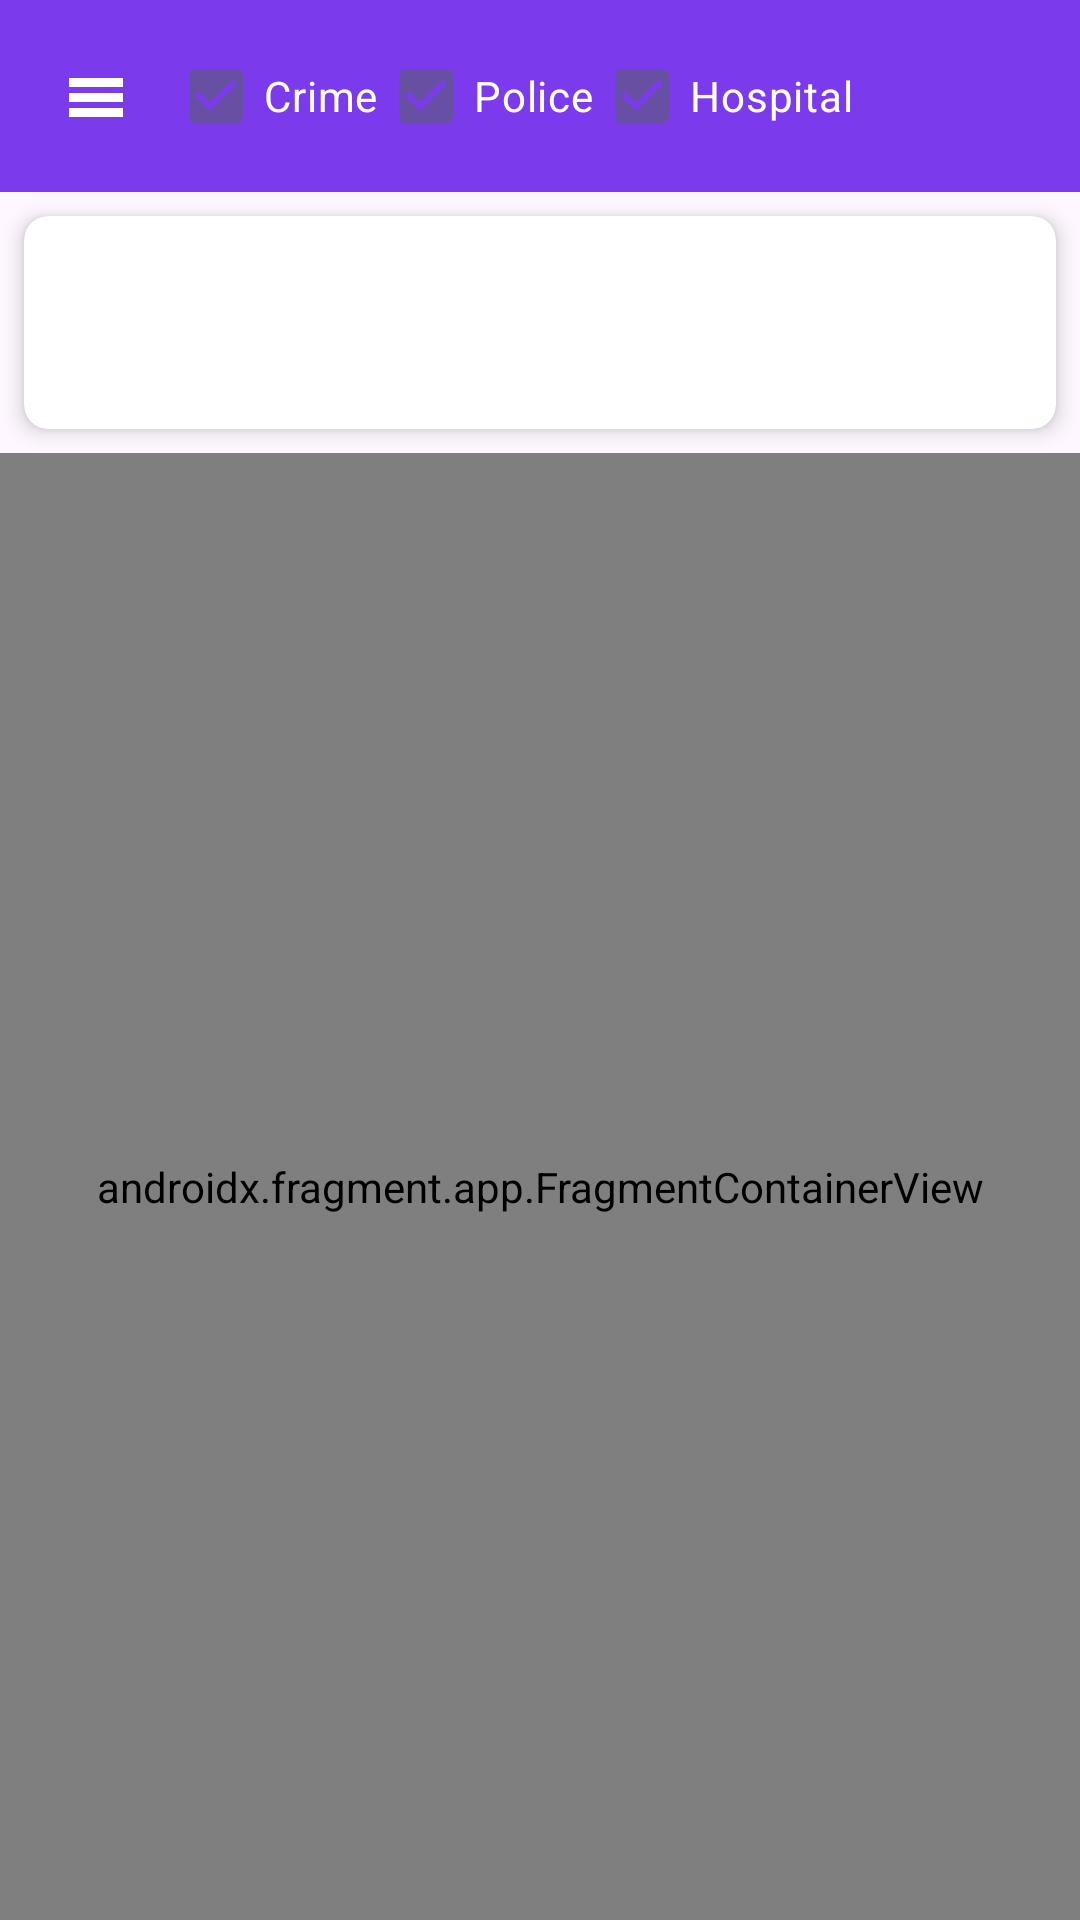

Icon bounding boxes for this 1080*1920 phone screenshot, format (x1, y1, x2, y2):
menu: (69, 78, 123, 117)
